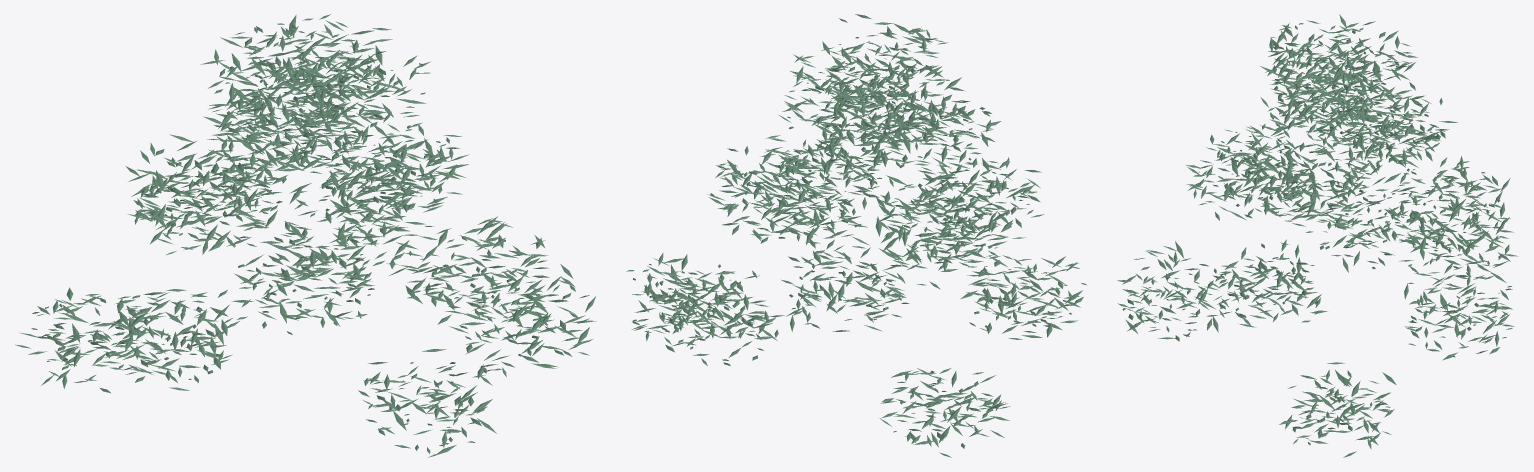
File: teaching3-vegetation-09-near.glb
3 renders of one model, left to right at view 1: azimuth 30°, elevation 25°; view 2: azimuth 150°, elevation 25°; view 3: azimuth 270°, elevation 25°, orthographic. The views are drawn at different scales.
Parts seen in each view (by area): view 1: vegetation cedar leaves.003; view 2: vegetation cedar leaves.003; view 3: vegetation cedar leaves.003.
Part boxes in pixels (x1=…): vegetation cedar leaves.003: x1=15, y1=14, x2=596, y2=457; vegetation cedar leaves.003: x1=626, y1=14, x2=1086, y2=457; vegetation cedar leaves.003: x1=1117, y1=14, x2=1518, y2=457.
Size of the model in its own units: 11.93 by 8.77 by 10.06.
